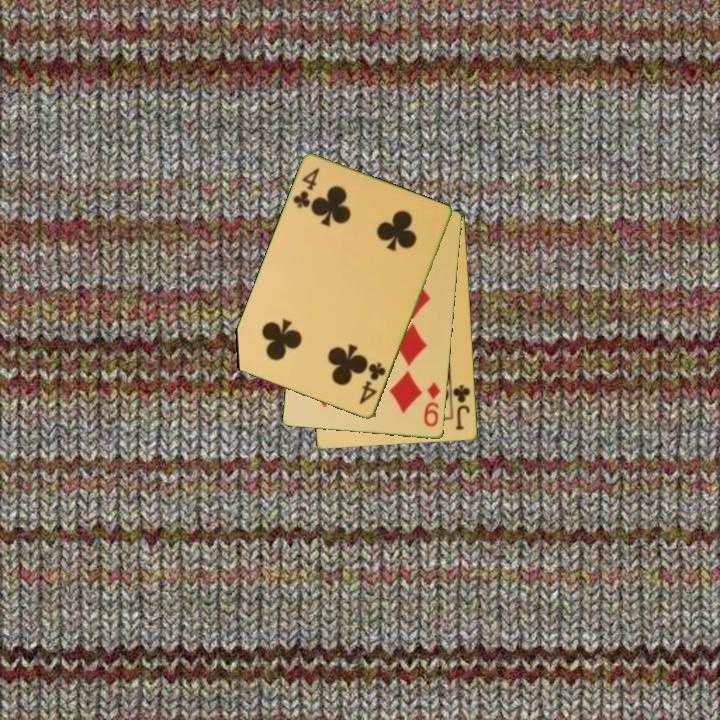4c: (356, 359, 389, 408), (290, 165, 323, 211)
9d: (421, 379, 443, 430)
Jc: (450, 381, 473, 433)
